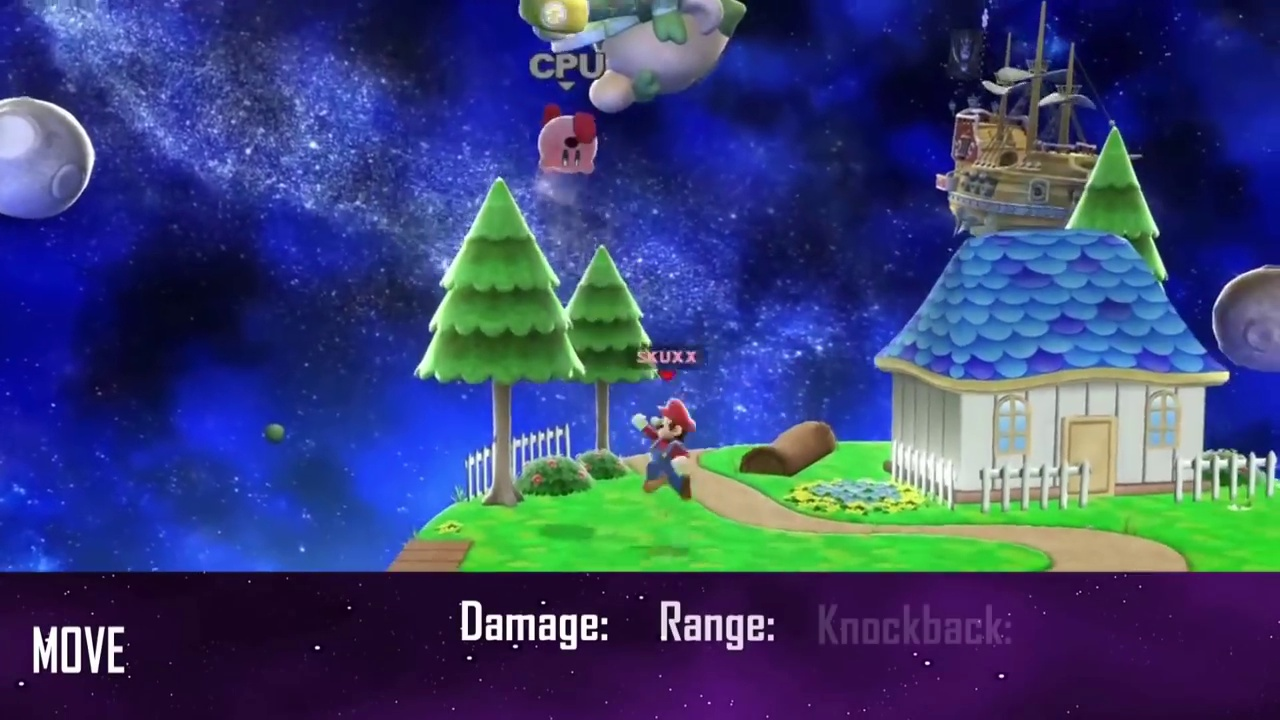Mario: (630, 399, 697, 504)
